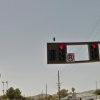Traffic light: (39, 32, 100, 69)
